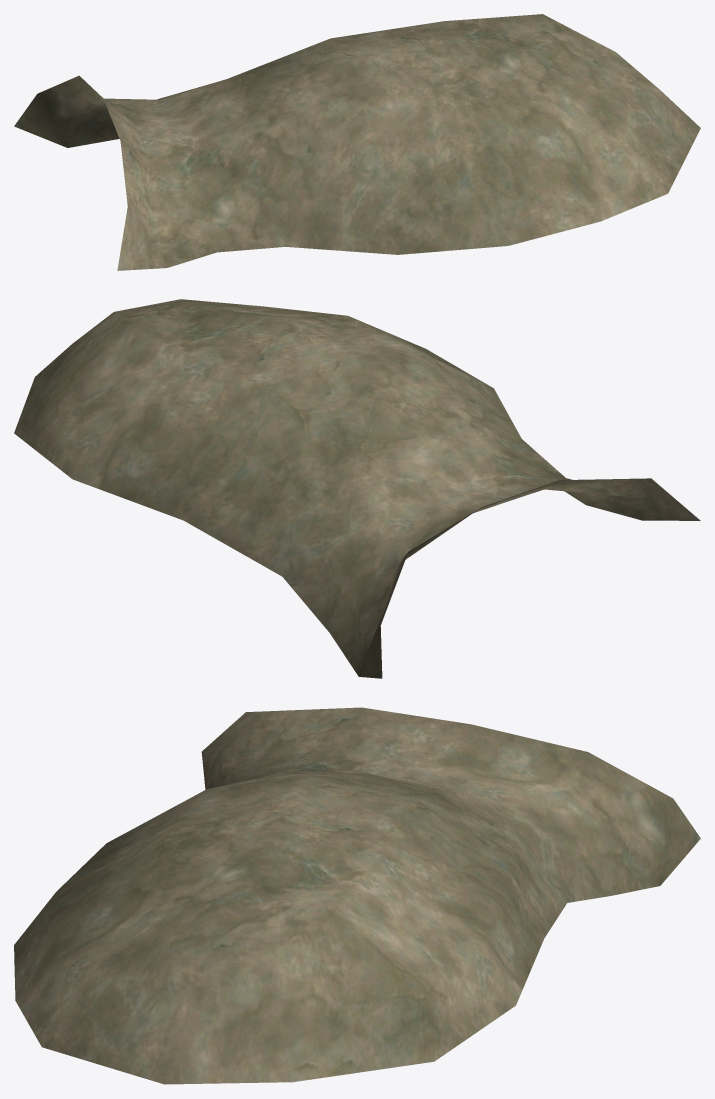
File: EKH_THRONE_PS_TH_PUZZLE_ROOF.fbx
The picture shows the model from 3 angles, top to bottom: view 1: azimuth 30°, elevation 25°; view 2: azimuth 150°, elevation 25°; view 3: azimuth 270°, elevation 25°; orthographic projection. The views are drawn at different scales.
Visible parts, largest first — view 1: EKH_THRONE_PS_TH_PUZZLE_ROOF; view 2: EKH_THRONE_PS_TH_PUZZLE_ROOF; view 3: EKH_THRONE_PS_TH_PUZZLE_ROOF.
Part boxes in pixels (left/top/right/bottom): EKH_THRONE_PS_TH_PUZZLE_ROOF: left=14, top=14, right=700, bottom=270; EKH_THRONE_PS_TH_PUZZLE_ROOF: left=14, top=299, right=700, bottom=678; EKH_THRONE_PS_TH_PUZZLE_ROOF: left=14, top=707, right=700, bottom=1084.
Size of the model in its own units: 134390 by 35006 by 110319.
Materials: 1 (1 with a texture image).
